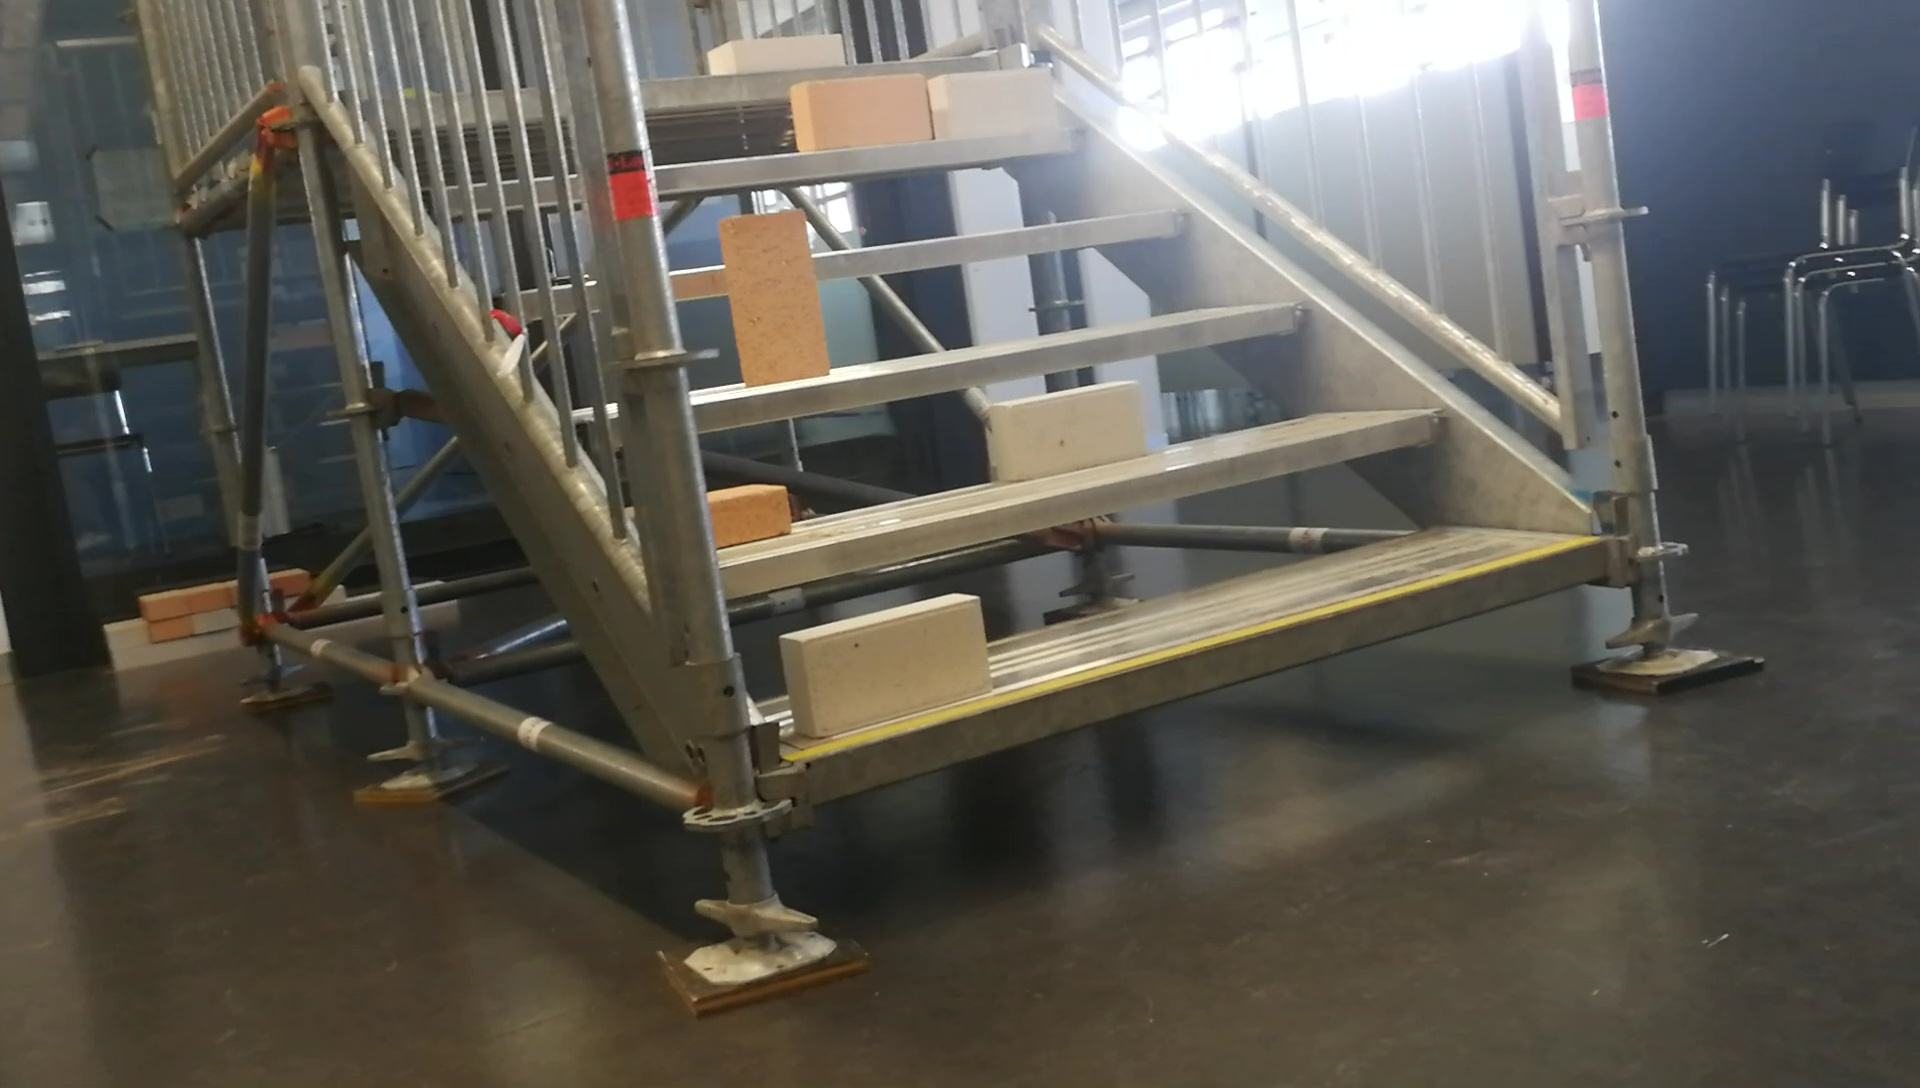brick: (785, 595, 986, 735), (723, 212, 829, 385), (992, 382, 1141, 479), (787, 70, 923, 150), (932, 67, 1052, 138), (698, 480, 789, 546), (708, 38, 843, 73)
edge: (806, 541, 1607, 798), (717, 410, 1443, 600), (692, 301, 1305, 433), (669, 207, 1192, 301), (655, 123, 1092, 193), (641, 59, 1005, 100)
stairs: (616, 5, 1763, 1019)
steps: (630, 26, 1625, 812)
